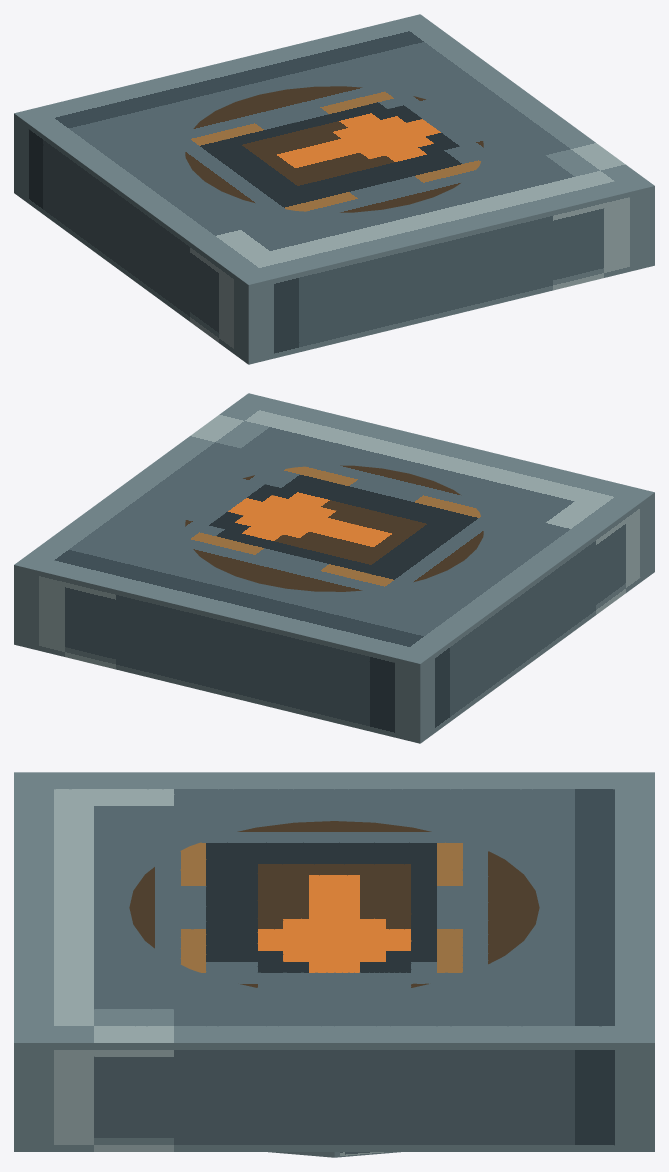
Rendered from inlet_loose_up.obj.
The picture shows the model from 3 angles, top to bottom: view 1: azimuth 30°, elevation 25°; view 2: azimuth 150°, elevation 25°; view 3: azimuth 270°, elevation 25°; orthographic projection. The views are drawn at different scales.
Visible parts, largest first — view 1: inlet_loose_up; view 2: inlet_loose_up; view 3: inlet_loose_up.
Boxes of the visible parts, <box> form: inlet_loose_up: <box>14,14,654,364</box>; inlet_loose_up: <box>14,393,654,743</box>; inlet_loose_up: <box>14,772,654,1157</box>.
Bounding box in the file's own units: 1 × 0.2812 × 1.
